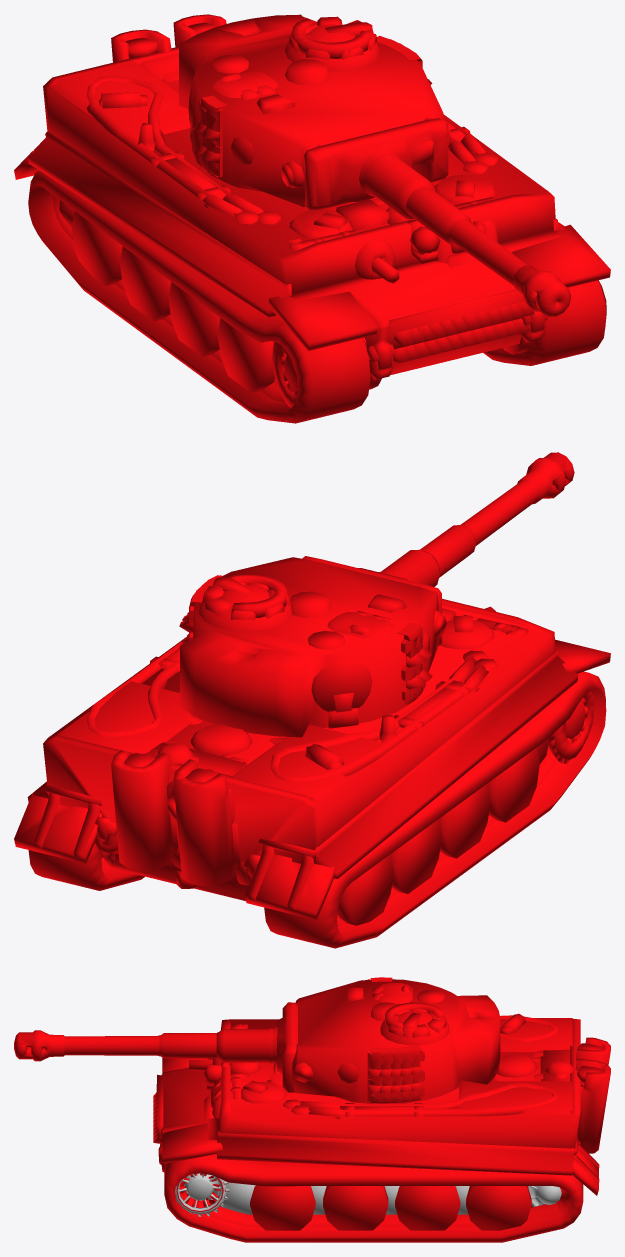
File: Tank_v1.fbx
3 views of the same model, one above another, from view 1: azimuth 30°, elevation 25°; view 2: azimuth 150°, elevation 25°; view 3: azimuth 270°, elevation 25° (orthographic). The views are drawn at different scales.
Visible parts, largest first — view 1: Object_05.001; view 2: Object_05.001; view 3: Object_05.001.
Part boxes in pixels (x1=…): Object_05.001: x1=14, y1=14, x2=610, y2=423; Object_05.001: x1=14, y1=452, x2=610, y2=948; Object_05.001: x1=14, y1=977, x2=610, y2=1242.
Bounding box in the file's own units: 353 × 280 × 795.
